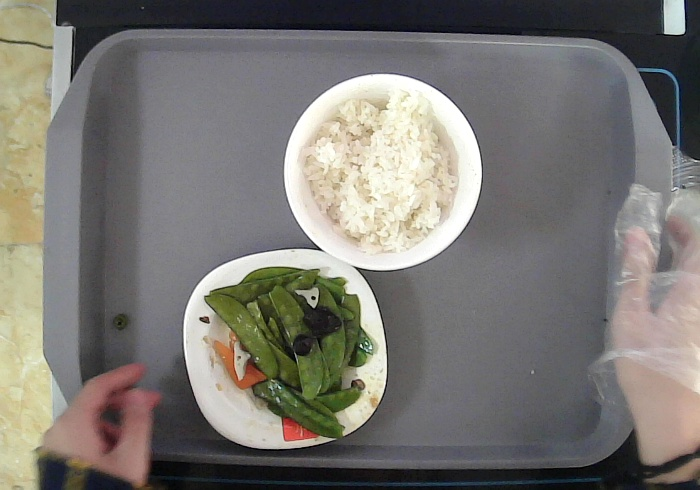SHKJ-Bai_Se_Si_Fang_Cai_Die: (180, 248, 387, 450)
SHKJ-Fan_Wan: (286, 73, 482, 271)
